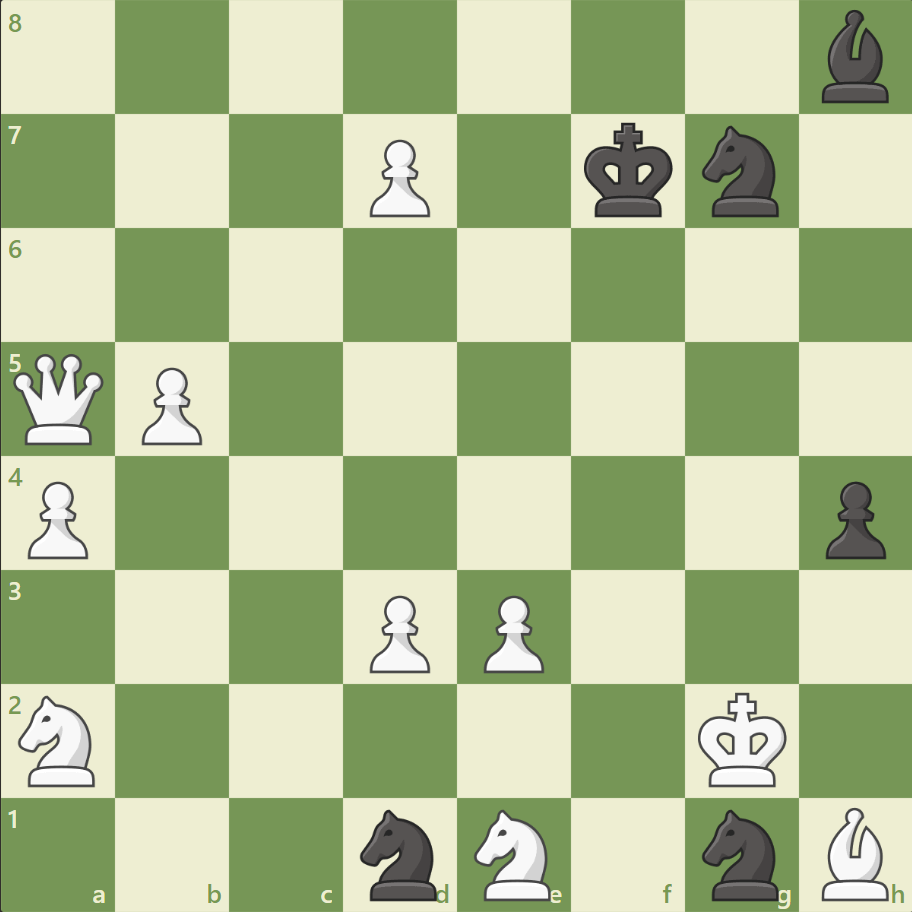B: (812, 801, 896, 904)
K: (692, 685, 792, 793)
N: (11, 688, 108, 791), (465, 802, 562, 904)
P: (133, 359, 208, 450), (20, 473, 95, 564), (474, 586, 549, 677), (361, 132, 435, 223), (361, 586, 435, 677)
Q: (10, 349, 109, 449)
b: (812, 6, 896, 109)
k: (579, 117, 679, 225)
n: (351, 802, 449, 904), (692, 121, 789, 223), (692, 802, 789, 904)
p: (815, 473, 889, 564)
